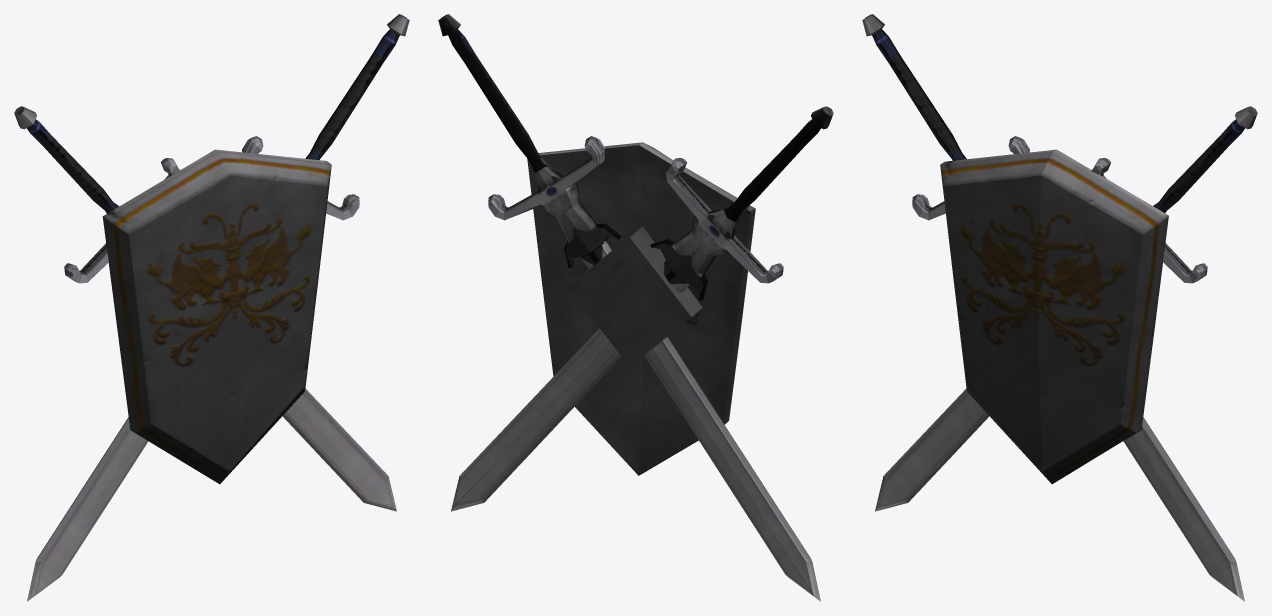
File: Prop_SM_CoatOfArms.fbx
3 renders of one model, left to right at view 1: azimuth 30°, elevation 25°; view 2: azimuth 150°, elevation 25°; view 3: azimuth 330°, elevation 25°, orthographic.
Visible parts, largest first — view 1: CoatOfArms; view 2: CoatOfArms; view 3: CoatOfArms.
Part boxes in pixels (x1,y1,x2,y2): CoatOfArms: [14, 14, 409, 601]; CoatOfArms: [438, 14, 833, 601]; CoatOfArms: [862, 14, 1257, 601].
Size of the model in its own units: 3.27 by 3.94 by 0.424.
Materials: 1 (1 with a texture image).
